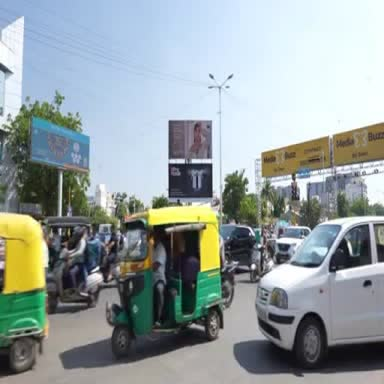Car: (256, 217, 383, 369), (219, 224, 256, 266), (274, 226, 310, 263), (265, 230, 275, 256)
